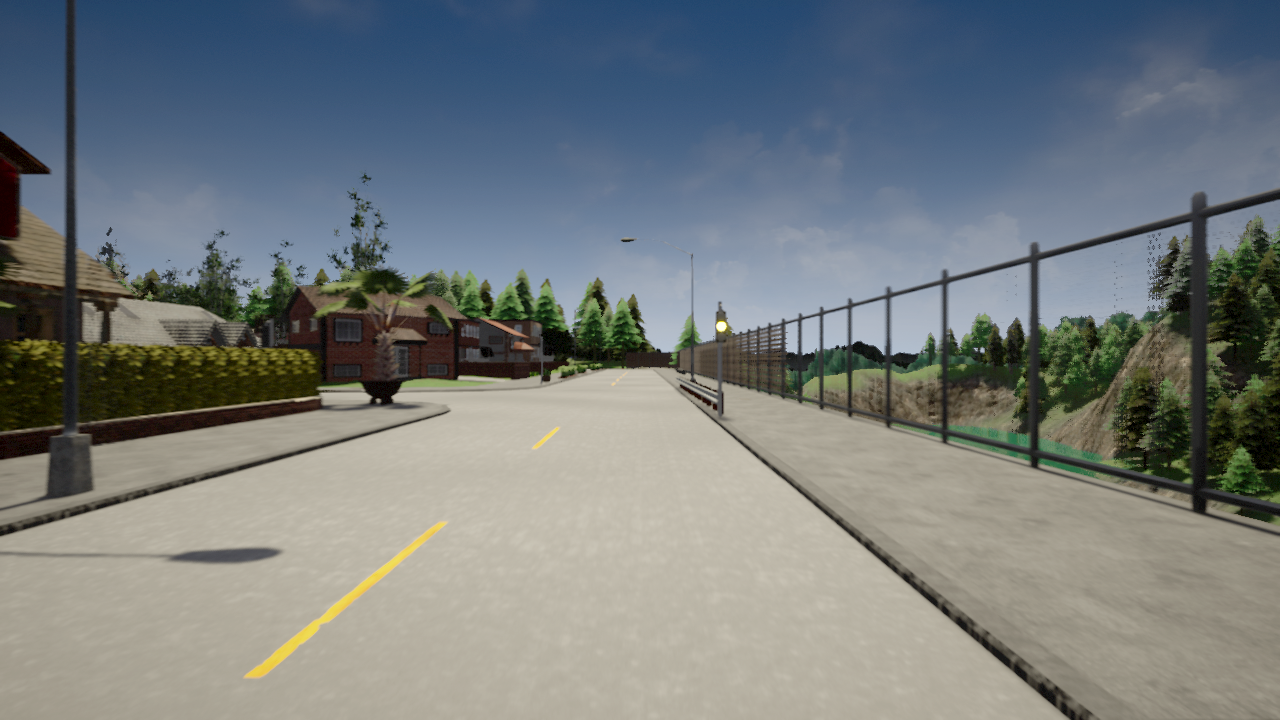yellow: (713, 310, 729, 343)
